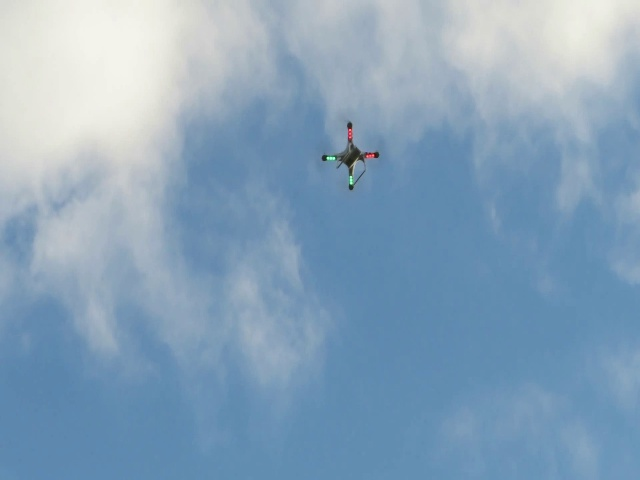drone: (315, 113, 388, 200)
